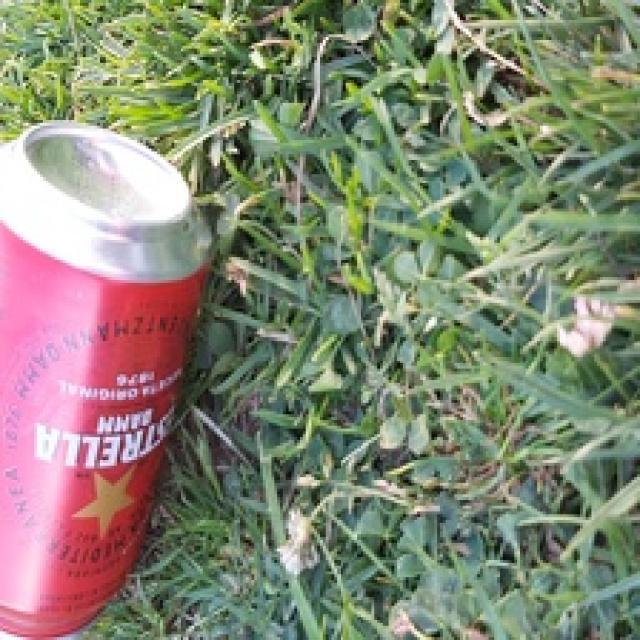recyclable: (0, 119, 213, 640)
